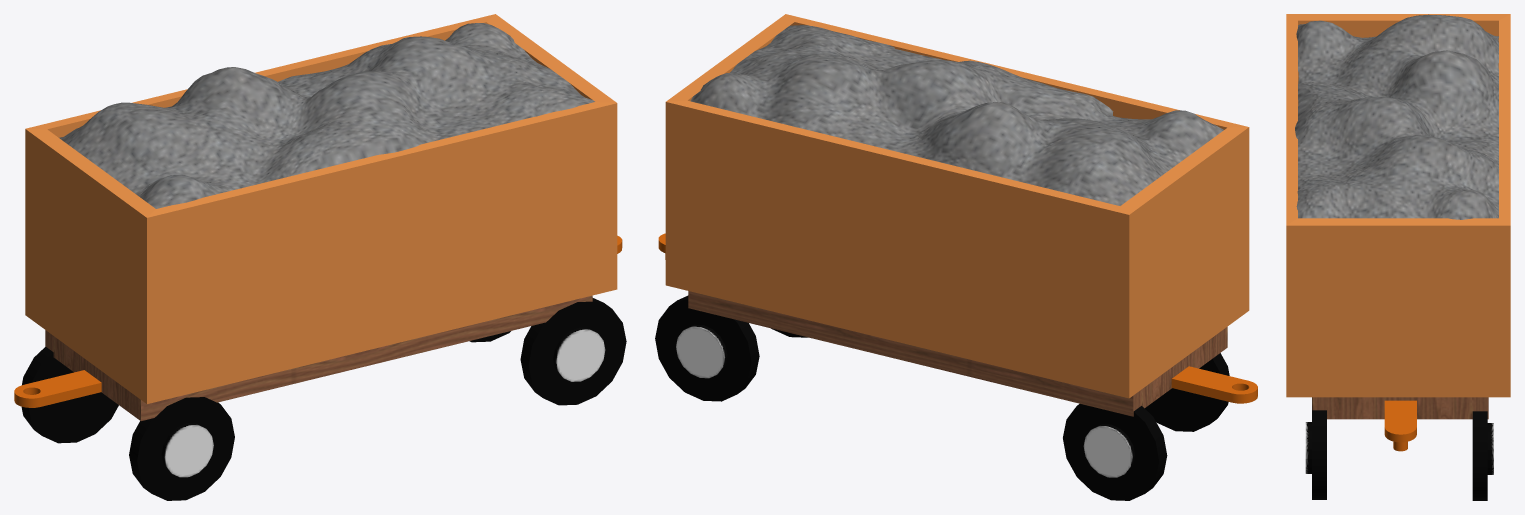
File: Coal_Cart.fbx
3 views of the same model, side by side, from view 1: azimuth 30°, elevation 25°; view 2: azimuth 150°, elevation 25°; view 3: azimuth 270°, elevation 25° (orthographic). The views are drawn at different scales.
Parts seen in each view (by area): view 1: Coal_Cart, Coal_Cart_Bottom1, Coal_Cart_Wheel1, Coal_Cart_Wheel4, Coal_Cart_Wheel3, Coal_Cart_Connectors; view 2: Coal_Cart, Coal_Cart_Bottom1, Coal_Cart_Wheel3, Coal_Cart_Wheel2, Coal_Cart_Wheel4, Coal_Cart_Connectors; view 3: Coal_Cart, Coal_Cart_Bottom1, Coal_Cart_Wheel2, Coal_Cart_Wheel1, Coal_Cart_Connectors.
Part boxes in pixels (box(x1,y1,x2,y2)): Coal_Cart: box(25, 14, 617, 403); Coal_Cart_Bottom1: box(45, 23, 594, 420); Coal_Cart_Wheel1: box(520, 298, 626, 405); Coal_Cart_Wheel4: box(129, 397, 234, 500); Coal_Cart_Wheel3: box(21, 346, 118, 443); Coal_Cart_Connectors: box(14, 235, 622, 407); Coal_Cart: box(665, 14, 1249, 398); Coal_Cart_Bottom1: box(688, 25, 1227, 416); Coal_Cart_Wheel3: box(1063, 404, 1167, 500); Coal_Cart_Wheel2: box(655, 295, 759, 401); Coal_Cart_Wheel4: box(1145, 353, 1229, 431); Coal_Cart_Connectors: box(658, 233, 1257, 403); Coal_Cart: box(1286, 14, 1510, 397); Coal_Cart_Bottom1: box(1295, 14, 1498, 419); Coal_Cart_Wheel2: box(1472, 411, 1493, 500); Coal_Cart_Wheel1: box(1305, 397, 1326, 499); Coal_Cart_Connectors: box(1384, 400, 1416, 451).
Bounding box in the file's own units: 10.03 × 5.53 × 3.5.
